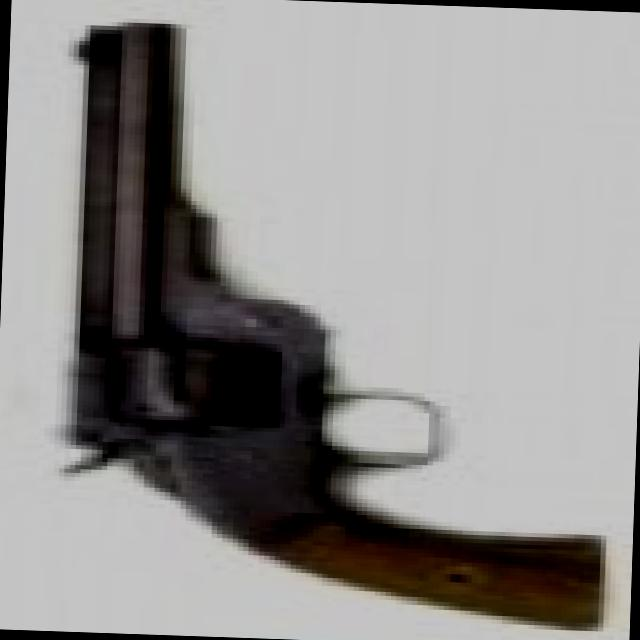handgun: (43, 31, 597, 621)
